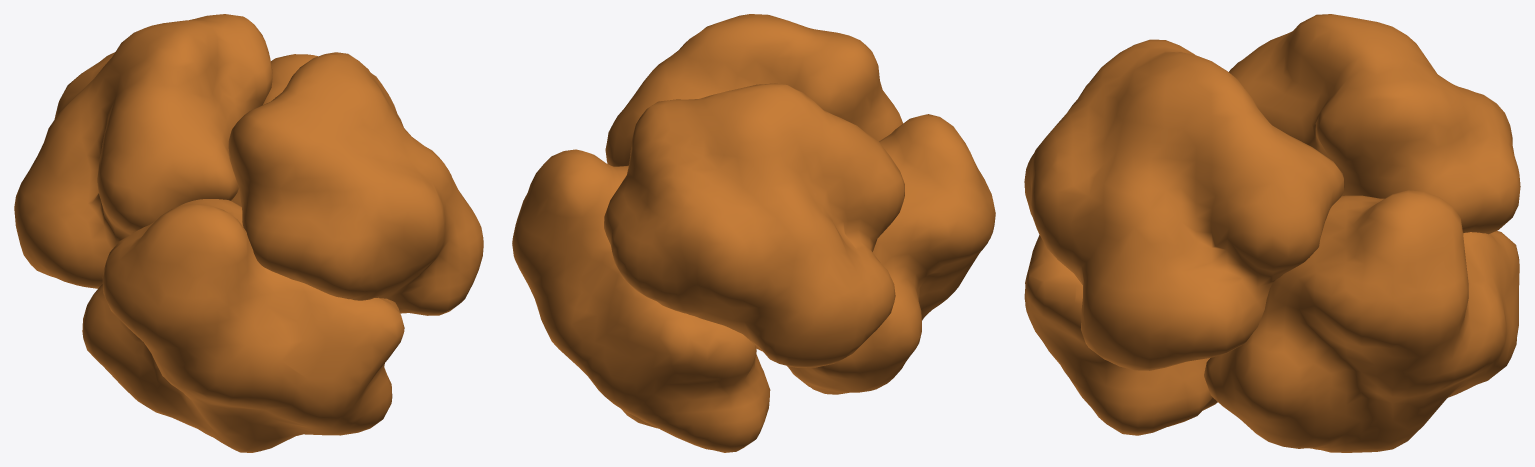
File: Hemoglobin.dae
3 renders of one model, left to right at view 1: azimuth 30°, elevation 25°; view 2: azimuth 150°, elevation 25°; view 3: azimuth 270°, elevation 25°, orthographic. The views are drawn at different scales.
Parts seen in each view (by area): view 1: CoarseMS_2hhb_Selection9, CoarseMS_2hhb_Selection8, CoarseMS_2hhb_Selection6, CoarseMS_2hhb_Selection7; view 2: CoarseMS_2hhb_Selection6, CoarseMS_2hhb_Selection7, CoarseMS_2hhb_Selection9, CoarseMS_2hhb_Selection8; view 3: CoarseMS_2hhb_Selection8, CoarseMS_2hhb_Selection7, CoarseMS_2hhb_Selection6, CoarseMS_2hhb_Selection9.
Boxes of the visible parts, <box> form: CoarseMS_2hhb_Selection9: <box>82,199,404,452</box>; CoarseMS_2hhb_Selection8: <box>228,52,483,315</box>; CoarseMS_2hhb_Selection6: <box>14,14,272,288</box>; CoarseMS_2hhb_Selection7: <box>233,54,317,206</box>; CoarseMS_2hhb_Selection6: <box>604,83,904,367</box>; CoarseMS_2hhb_Selection7: <box>512,149,770,452</box>; CoarseMS_2hhb_Selection9: <box>787,114,995,394</box>; CoarseMS_2hhb_Selection8: <box>605,14,902,166</box>; CoarseMS_2hhb_Selection8: <box>1024,39,1344,370</box>; CoarseMS_2hhb_Selection7: <box>1204,190,1519,452</box>; CoarseMS_2hhb_Selection6: <box>1229,14,1520,234</box>; CoarseMS_2hhb_Selection9: <box>1024,235,1217,435</box>.
Size of the model in its own units: 60.38 by 55.65 by 65.15.
